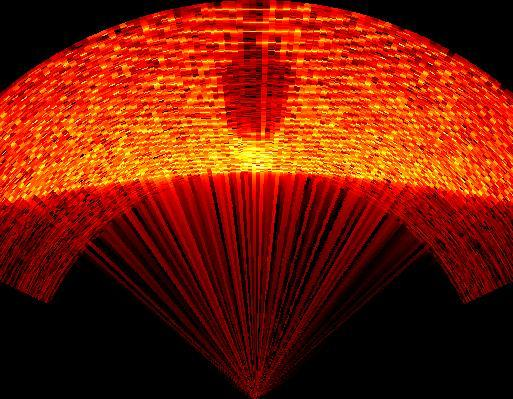box_crate: (222, 41, 294, 138)
